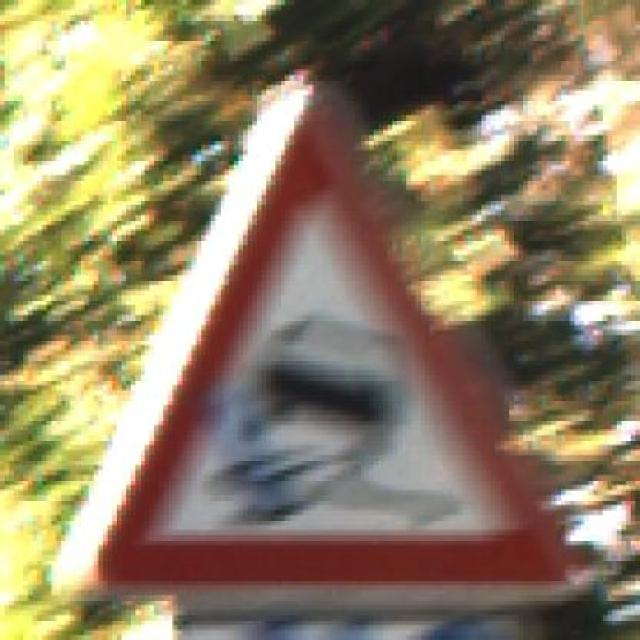Slippery Road Ahead: (61, 60, 593, 611)
